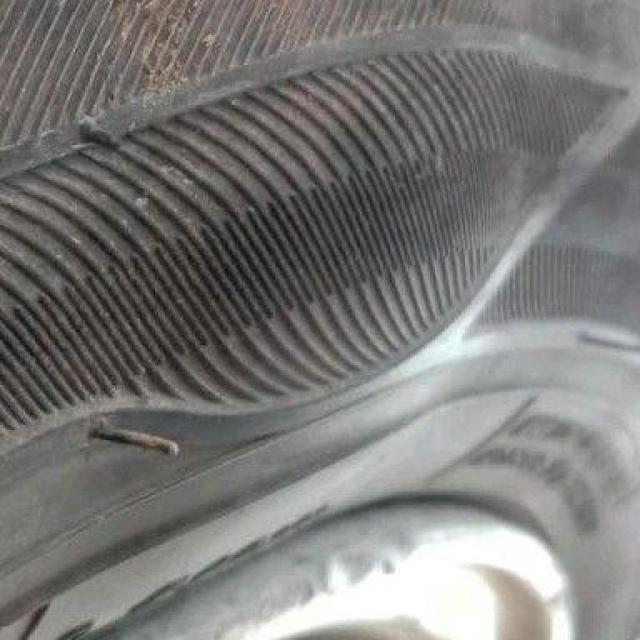Bulge: (142, 66, 531, 499)
